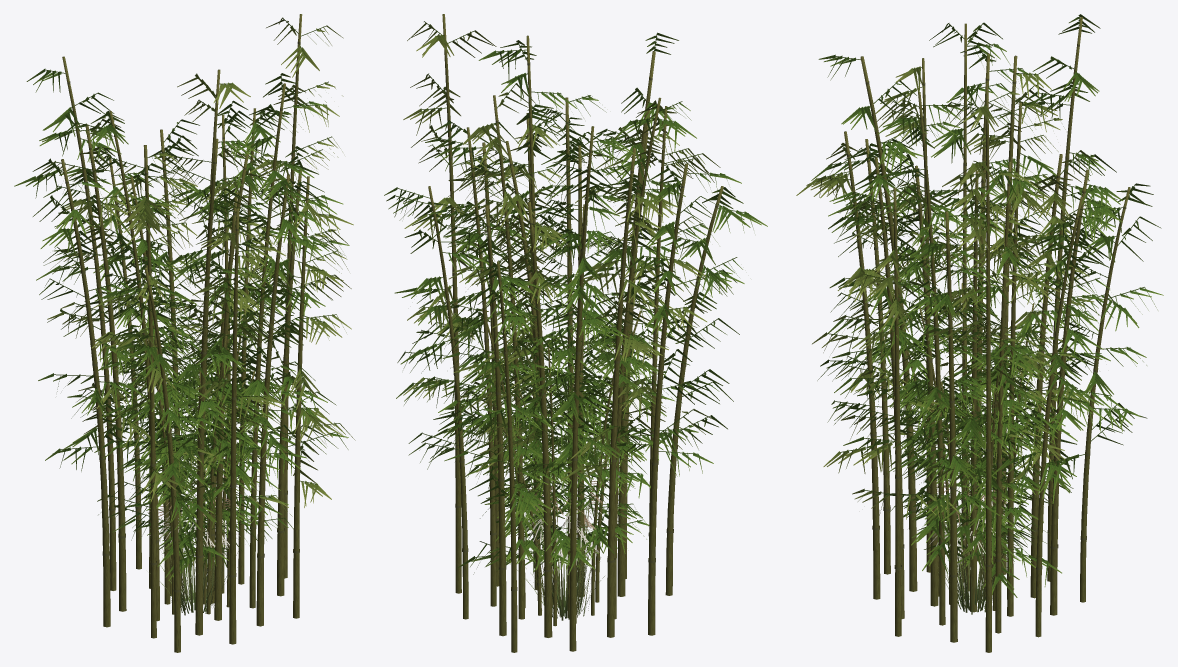
The model's file is trees_eastasia.glb.
The picture shows the model from 3 angles, left to right: view 1: azimuth 30°, elevation 25°; view 2: azimuth 150°, elevation 25°; view 3: azimuth 270°, elevation 25°; orthographic projection. The views are drawn at different scales.
Parts seen in each view (by area): view 1: bamboo_grove_mesh, bamboo_small_mesh, grass_silver_mesh, reed_ea_mesh; view 2: bamboo_grove_mesh, bamboo_small_mesh, reed_ea_mesh, grass_silver_mesh; view 3: bamboo_grove_mesh, bamboo_small_mesh, reed_ea_mesh, grass_silver_mesh.
Part boxes in pixels (x1,y1,x2,y2): bamboo_grove_mesh: (14, 14, 355, 652); bamboo_small_mesh: (97, 283, 295, 614); grass_silver_mesh: (150, 493, 239, 613); reed_ea_mesh: (147, 476, 238, 615); bamboo_grove_mesh: (384, 14, 767, 652); bamboo_small_mesh: (437, 277, 676, 626); reed_ea_mesh: (527, 475, 607, 620); grass_silver_mesh: (510, 505, 605, 618); bamboo_grove_mesh: (796, 14, 1163, 652); bamboo_small_mesh: (863, 280, 1077, 610); reed_ea_mesh: (937, 471, 1016, 614); grass_silver_mesh: (929, 491, 1018, 611).
Bounding box in the file's own units: 6.2 × 10.41 × 6.
Materials: 2 (2 with a texture image).
